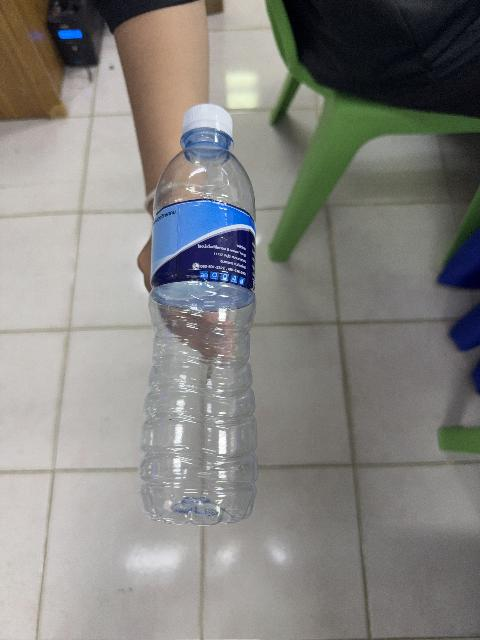bottle: (140, 105, 257, 525)
